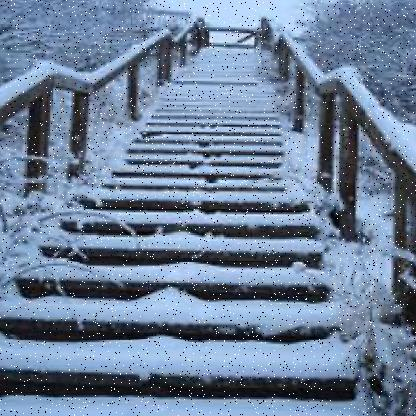stair_up: (3, 182, 350, 394)
